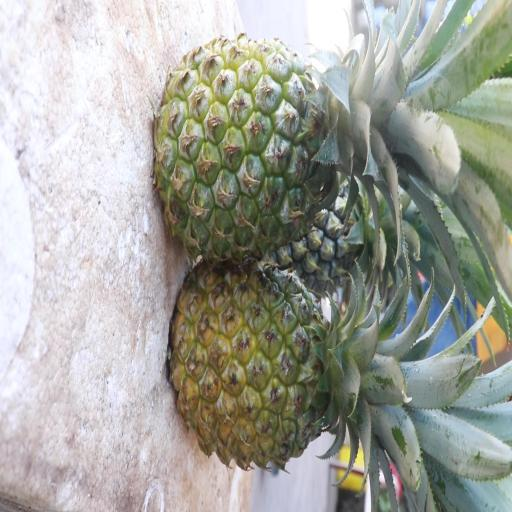------------------------------: (164, 27, 388, 267)
Pineapple - v8 v1: (169, 264, 381, 486)
